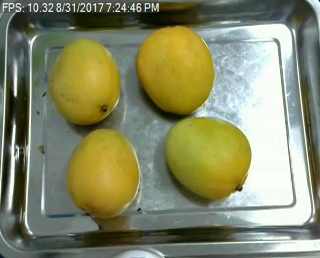Mango: (136, 26, 215, 115), (165, 117, 249, 200), (47, 38, 123, 125), (66, 129, 138, 219)
